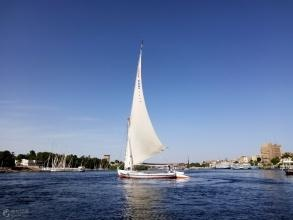fanchuan: (114, 35, 190, 180)
